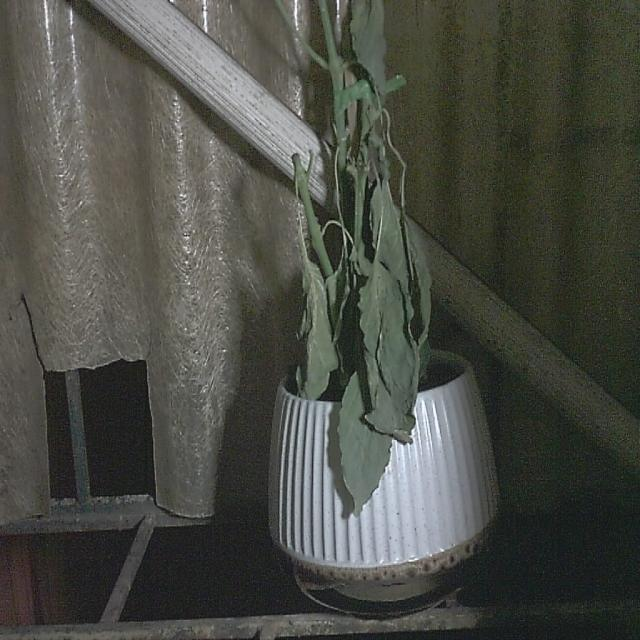Leaf: (357, 258, 417, 443), (338, 363, 393, 516)
